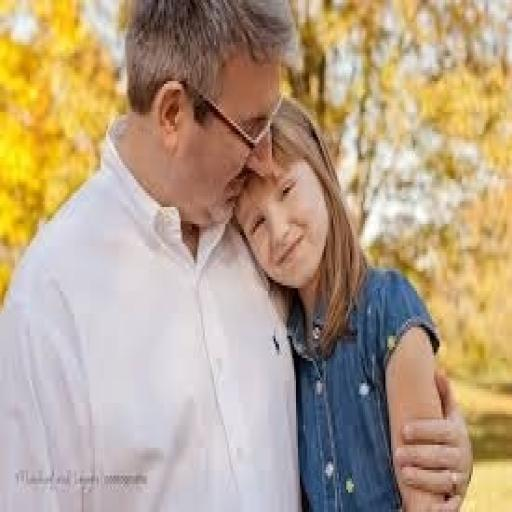hugging: (0, 0, 473, 509), (231, 92, 473, 510)
